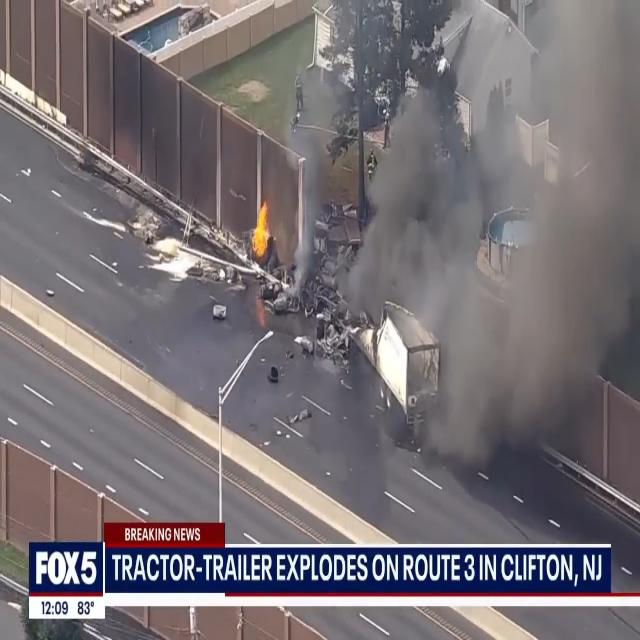fire: (248, 197, 272, 266)
